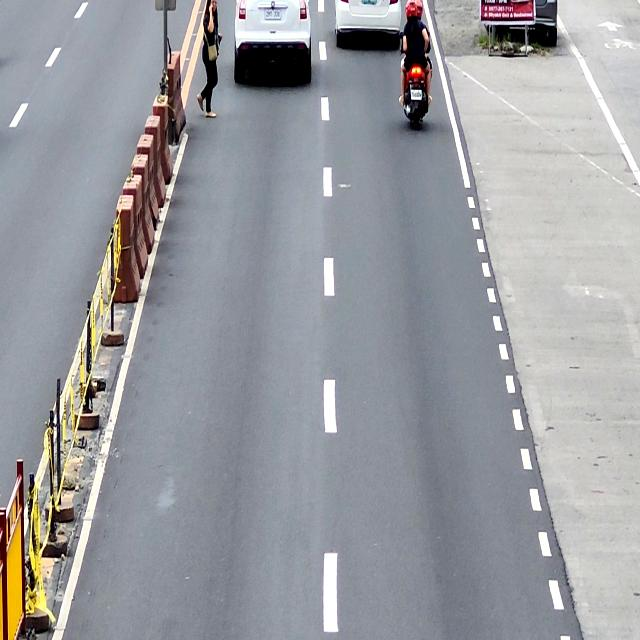Car: (233, 0, 311, 84), (333, 0, 401, 50)
License-Plate: (264, 8, 281, 20), (410, 89, 422, 100)
Motorcycle: (399, 30, 432, 130)
